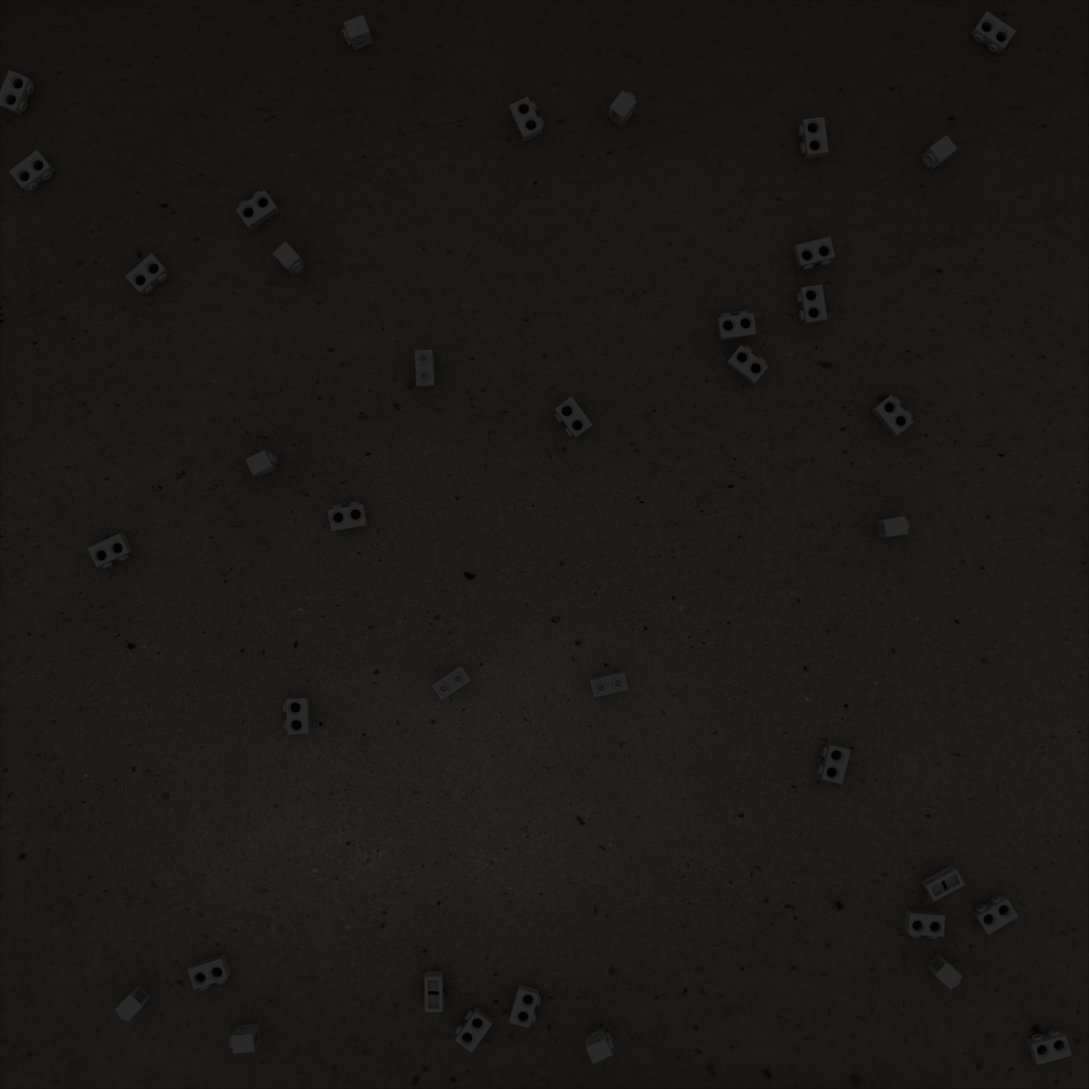lego: (970, 11, 1016, 54), (9, 150, 55, 192), (125, 253, 170, 295), (972, 895, 1019, 935), (871, 395, 914, 437), (236, 190, 280, 231), (454, 1007, 493, 1053), (726, 345, 769, 385), (554, 396, 593, 439), (509, 96, 545, 142), (87, 533, 133, 569), (921, 865, 965, 902), (1027, 1029, 1072, 1065), (187, 954, 231, 990), (0, 70, 34, 115), (432, 664, 472, 700), (793, 236, 835, 270), (509, 984, 541, 1028), (115, 984, 152, 1022), (817, 743, 851, 784), (926, 953, 963, 990), (796, 284, 828, 325), (798, 117, 829, 159), (921, 135, 958, 170), (905, 909, 945, 939), (328, 501, 368, 531), (717, 311, 756, 341), (342, 15, 374, 51), (272, 241, 305, 275), (608, 90, 637, 128), (589, 671, 629, 698), (283, 697, 311, 735), (585, 1028, 614, 1064), (229, 1023, 261, 1054), (245, 450, 279, 477), (424, 971, 444, 1012), (415, 349, 436, 388), (876, 516, 910, 537)
